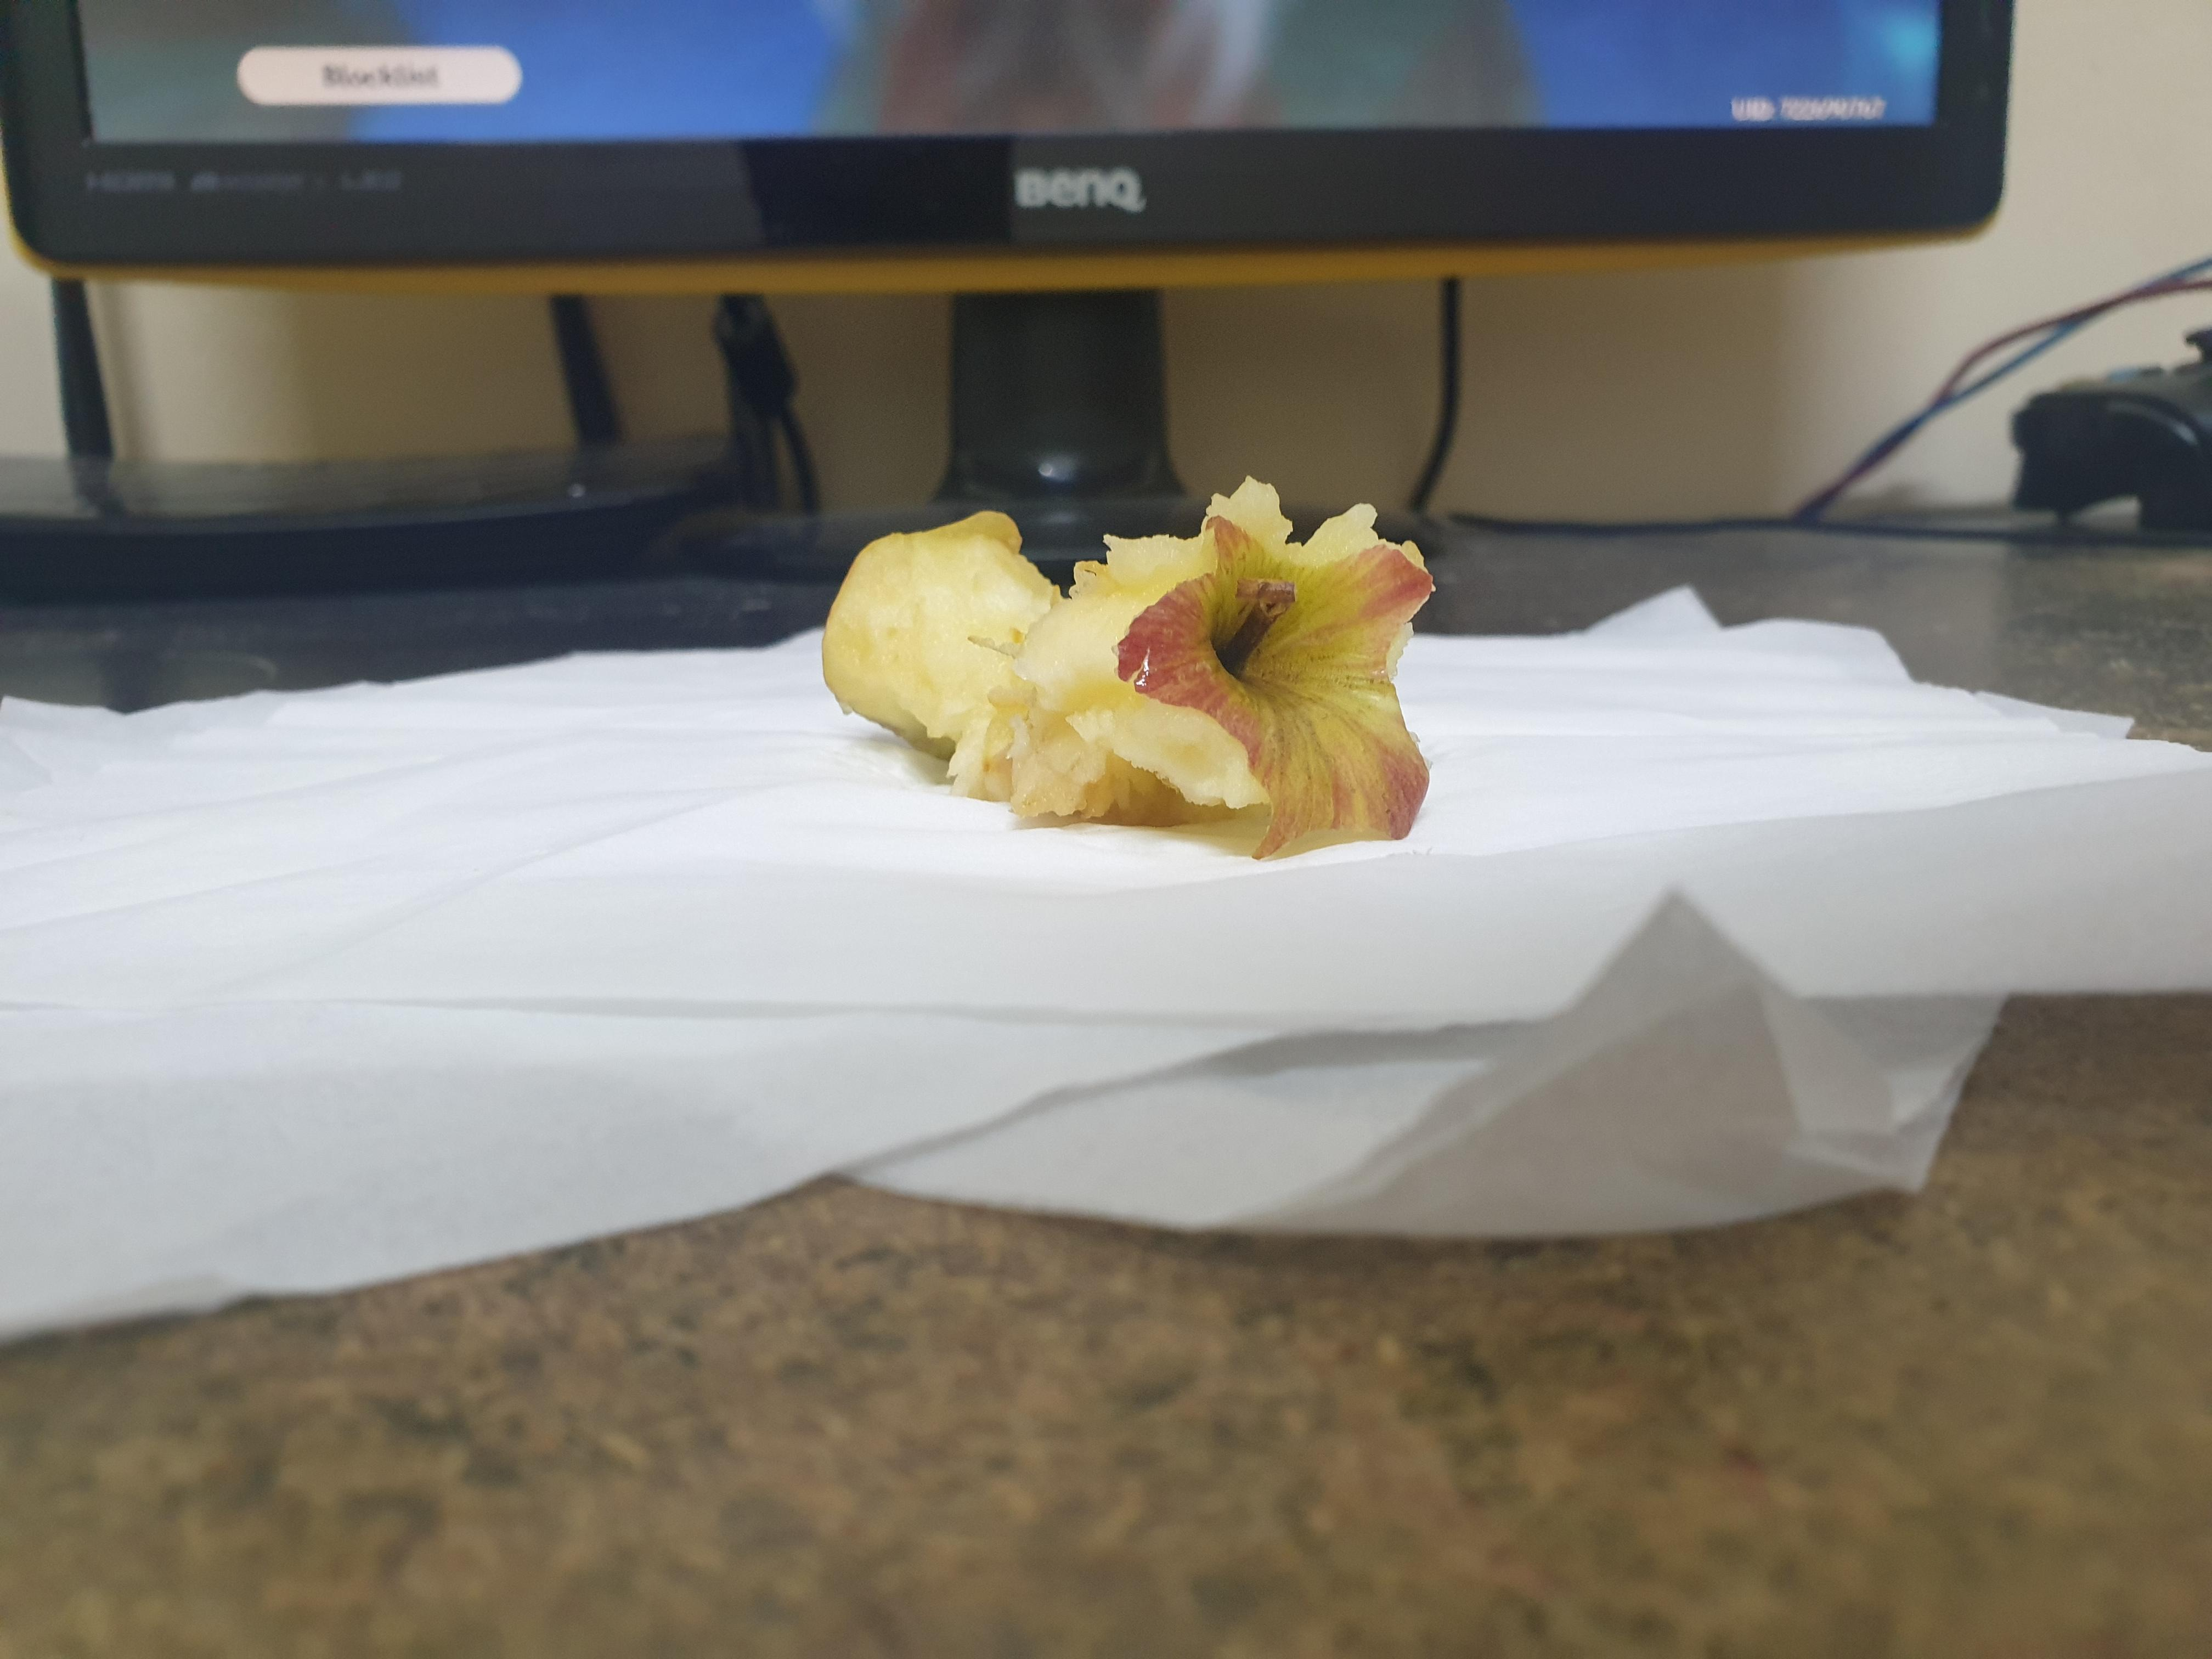Apple: (798, 458, 1463, 875)
